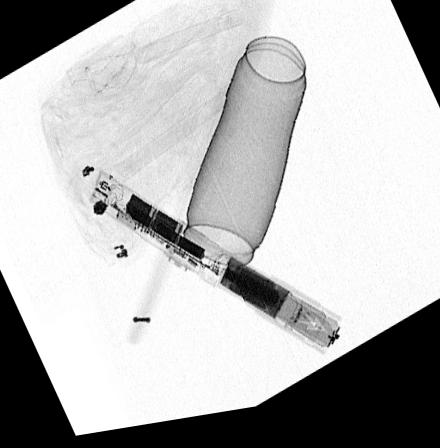Baton: (87, 170, 344, 365)
